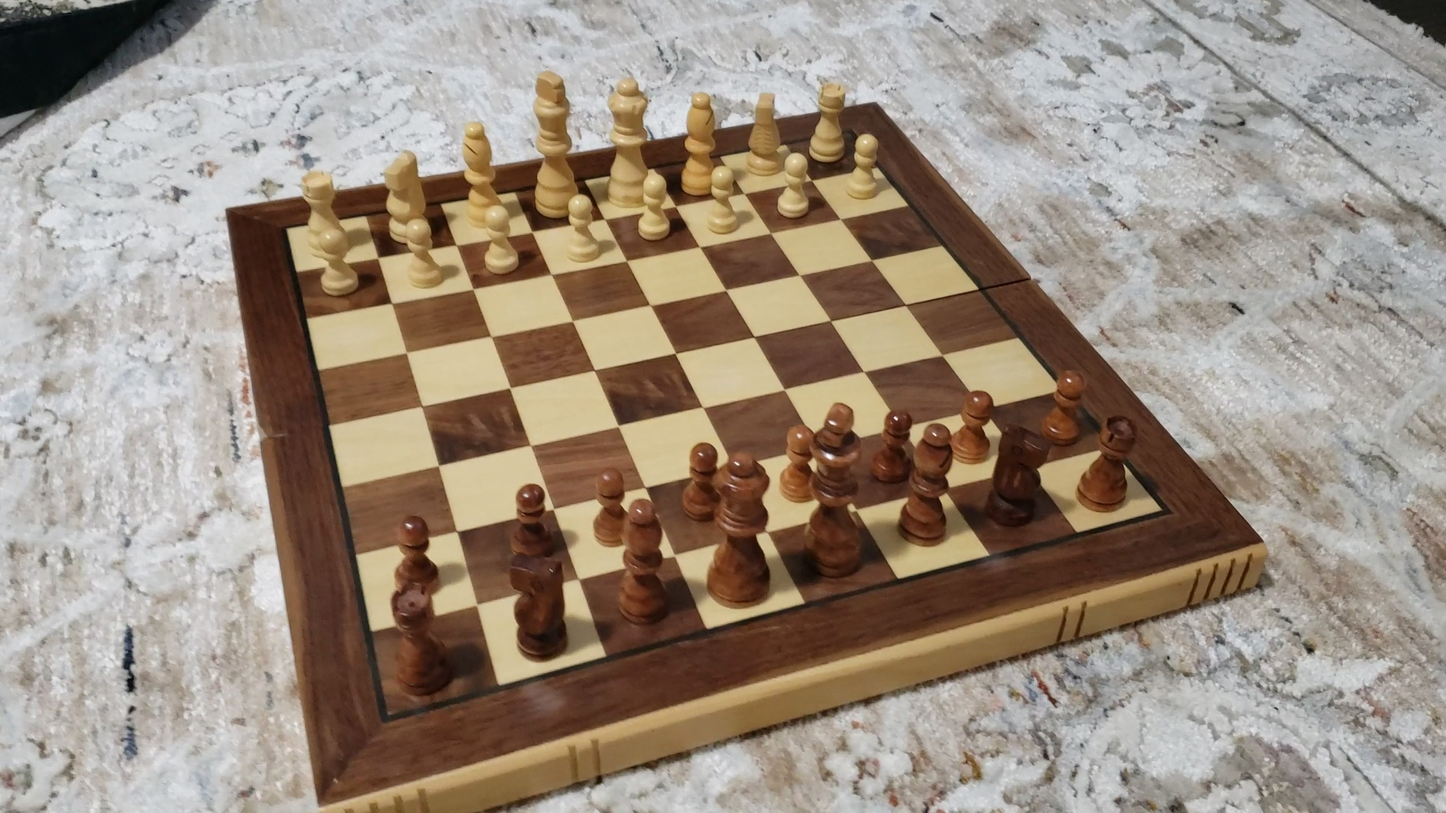black-bishop: (900, 422, 956, 544), (618, 497, 669, 626)
black-king: (803, 397, 863, 580)
black-knight: (981, 425, 1053, 528), (506, 550, 570, 661)
black-pawn: (389, 513, 442, 600), (503, 478, 561, 554), (1040, 366, 1089, 449), (951, 386, 998, 465), (679, 439, 722, 523), (590, 466, 630, 548), (873, 406, 913, 485), (781, 422, 817, 505)
black-queen: (705, 447, 776, 608)
black-rook: (374, 575, 460, 705), (1074, 415, 1140, 512)
white-bishop: (458, 117, 505, 228), (681, 88, 718, 196)
white-king: (529, 64, 578, 221)
white-knight: (380, 148, 429, 244), (746, 89, 783, 177)
white-pawn: (554, 187, 608, 270), (394, 214, 448, 294), (473, 202, 526, 281), (769, 146, 820, 225), (628, 167, 678, 247), (310, 223, 363, 297), (700, 160, 747, 241), (839, 129, 888, 204)
white-queen: (598, 75, 657, 209)
white-rook: (289, 165, 354, 256), (807, 77, 851, 169)
